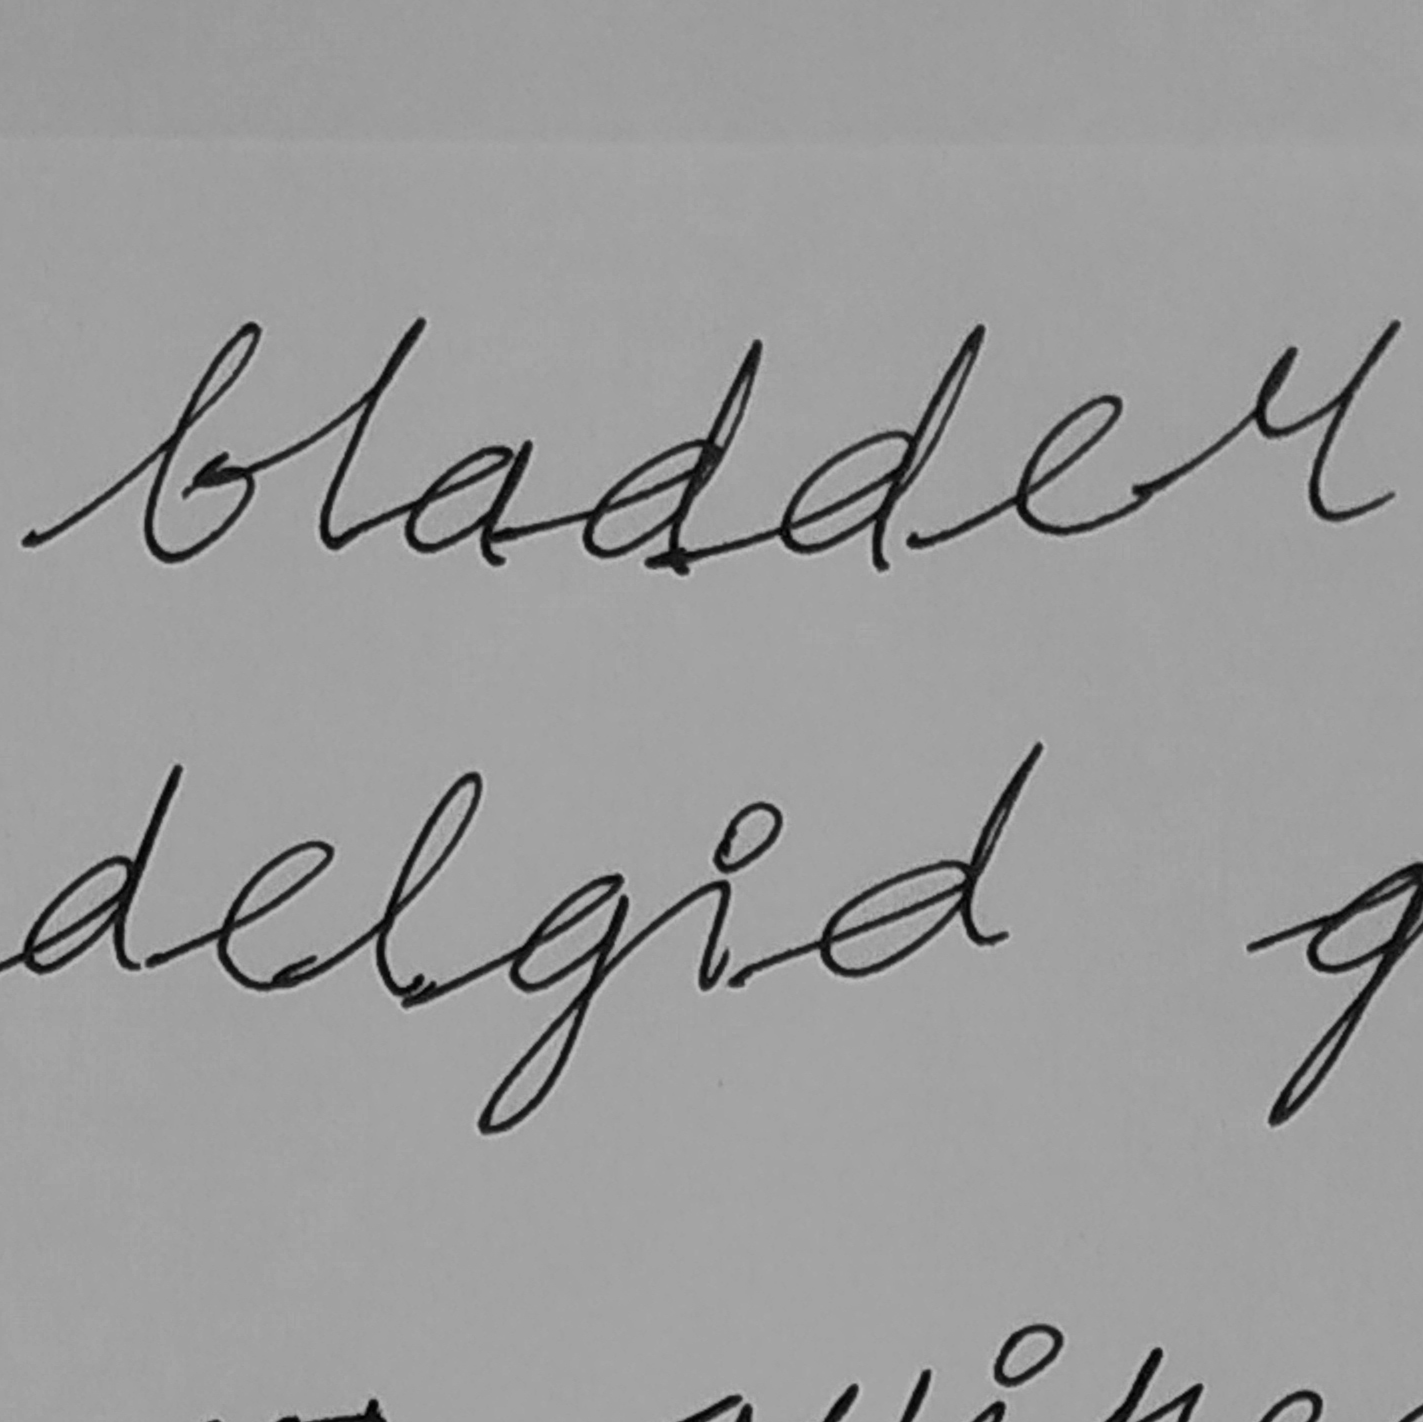a: (398, 438, 538, 574)
b: (135, 316, 266, 570)
d: (775, 320, 988, 574), (578, 333, 767, 581)
e: (1010, 389, 1152, 540)
l: (312, 310, 430, 556)
r: (1226, 315, 1407, 527)
